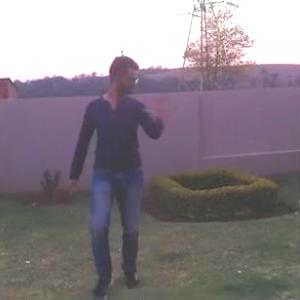follow_hand: (148, 92, 180, 122)
